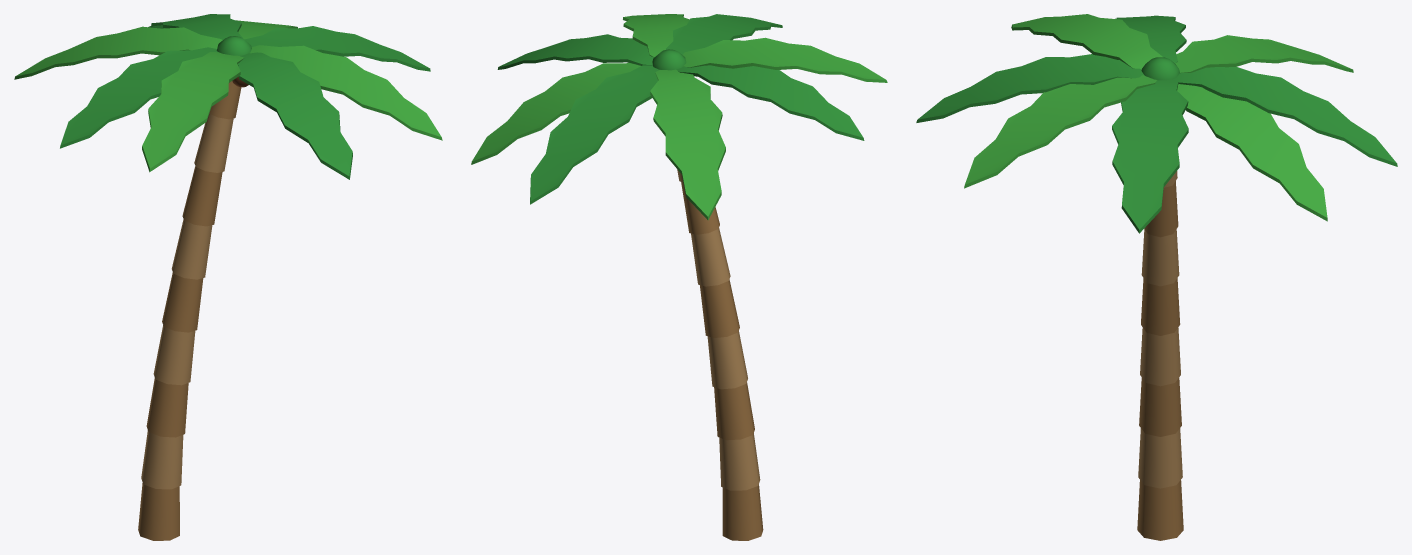
Rendered from tropic-deco1.glb.
3 renders of one model, left to right at view 1: azimuth 30°, elevation 25°; view 2: azimuth 150°, elevation 25°; view 3: azimuth 270°, elevation 25°, orthographic. The views are drawn at different scales.
Parts seen in each view (by area): view 1: tropic-deco1; view 2: tropic-deco1; view 3: tropic-deco1.
Boxes of the visible parts, <box> form: tropic-deco1: <box>14,14,442,540</box>; tropic-deco1: <box>471,14,887,540</box>; tropic-deco1: <box>916,14,1397,540</box>.
Bounding box in the file's own units: 3.48 × 4.25 × 3.63.
